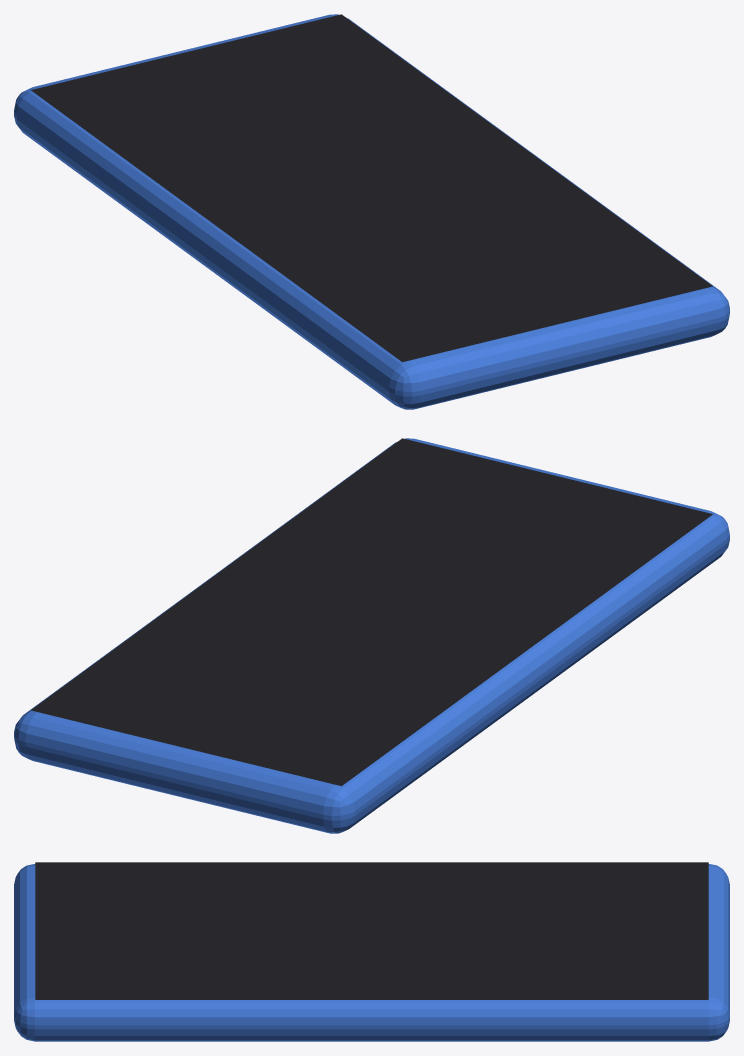
Rendered from motorola-moto-g-model-136-budget-2024.glb.
3 views of the same model, one above another, from view 1: azimuth 30°, elevation 25°; view 2: azimuth 150°, elevation 25°; view 3: azimuth 270°, elevation 25° (orthographic). The views are drawn at different scales.
Parts seen in each view (by area): view 1: Phone_Screen, Phone_Body; view 2: Phone_Screen, Phone_Body; view 3: Phone_Screen, Phone_Body.
Boxes of the visible parts, x1,y1,x2,y2 form: Phone_Screen: [31, 14, 712, 361]; Phone_Body: [14, 14, 729, 409]; Phone_Screen: [31, 438, 712, 785]; Phone_Body: [14, 438, 729, 833]; Phone_Screen: [35, 862, 708, 999]; Phone_Body: [14, 864, 729, 1041].
Size of the model in its own units: 0.0758 by 0.0101 by 0.1536.
